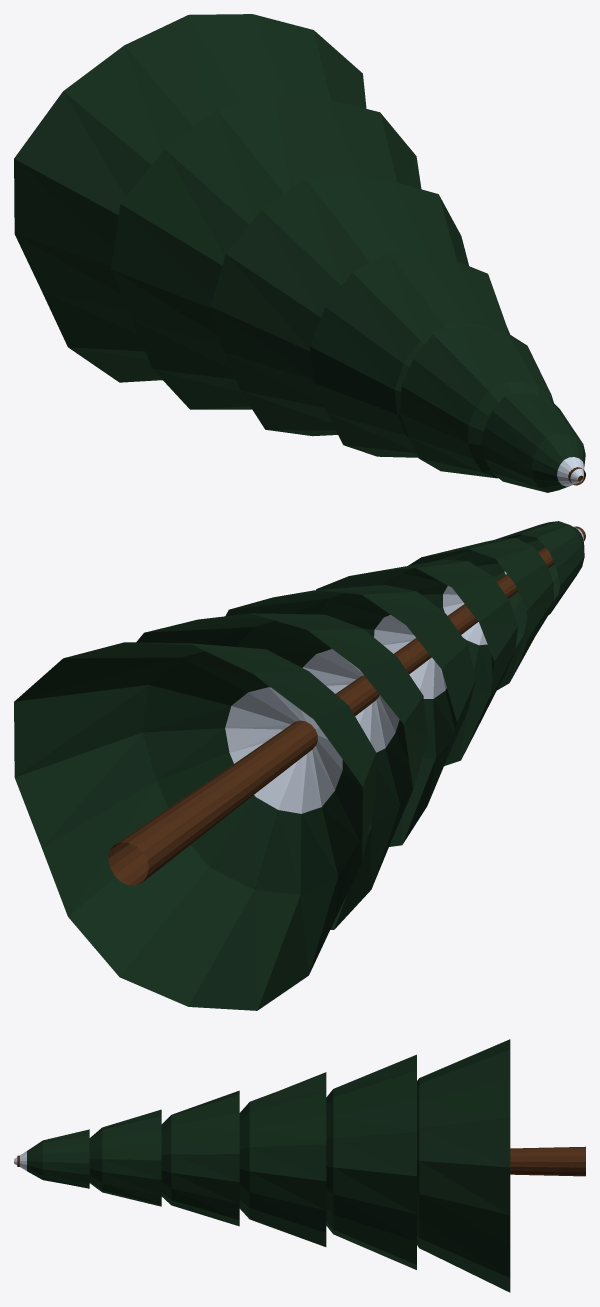
File: Northern_Pine_Tree.obj
3 views of the same model, one above another, from view 1: azimuth 30°, elevation 25°; view 2: azimuth 150°, elevation 25°; view 3: azimuth 270°, elevation 25° (orthographic). The views are drawn at different scales.
Visible parts, largest first — view 1: Northern_Pine_Tree_Layered; view 2: Northern_Pine_Tree_Layered; view 3: Northern_Pine_Tree_Layered.
Part boxes in pixels (left/top/right/bottom): Northern_Pine_Tree_Layered: left=14, top=14, right=585, bottom=492; Northern_Pine_Tree_Layered: left=14, top=521, right=585, bottom=1010; Northern_Pine_Tree_Layered: left=14, top=1039, right=585, bottom=1292.
Size of the model in its own units: 309 by 308 by 694.
